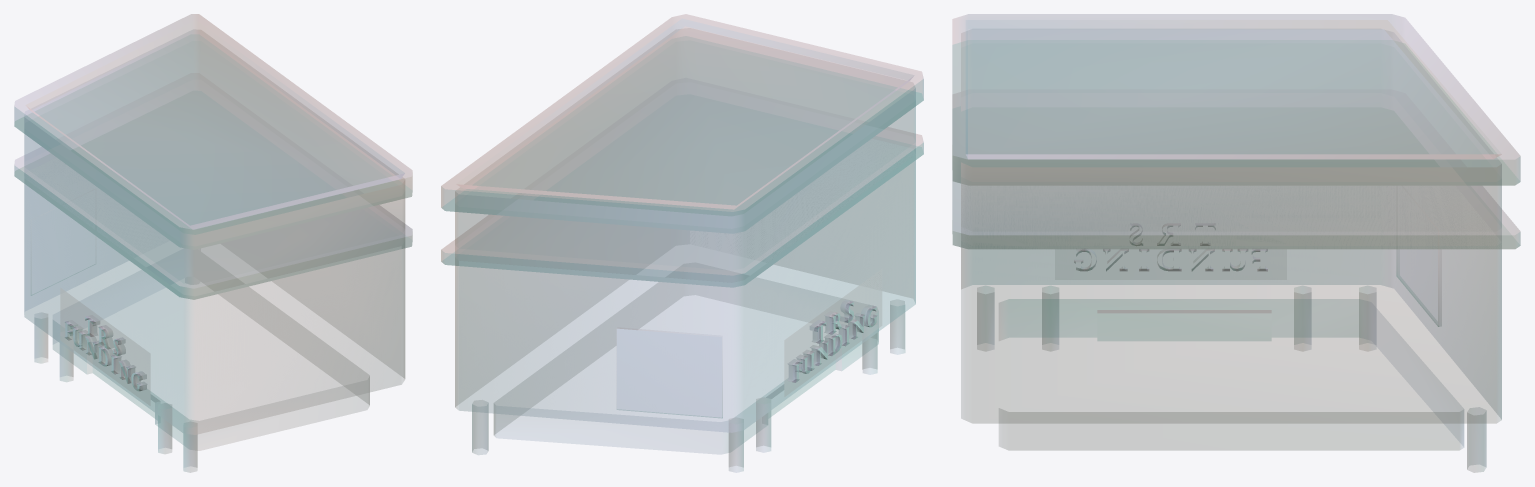
The model's file is CEN_8C62.preview.glb.
3 renders of one model, left to right at view 1: azimuth 30°, elevation 25°; view 2: azimuth 150°, elevation 25°; view 3: azimuth 270°, elevation 25°, orthographic. The views are drawn at different scales.
Parts seen in each view (by area): view 1: obj_370, obj_14d0, obj_2020, obj_d50, obj_ab0, obj_1230, obj_16e0, obj_a440, obj_1ea0, obj_9df0; view 2: obj_370, obj_14d0, obj_2020, obj_d50, obj_ab0, obj_1230, obj_16e0, obj_a0b0, obj_a5a0, obj_1ea0, obj_a440, obj_9df0; view 3: obj_370, obj_14d0, obj_2020, obj_d50, obj_ab0, obj_1230, obj_1ea0, obj_9df0.
Part boxes in pixels (box(x1,y1,x2,y2)): obj_370: box(14, 41, 412, 299); obj_14d0: box(24, 184, 405, 434); obj_2020: box(32, 29, 394, 225); obj_d50: box(24, 30, 405, 295); obj_ab0: box(14, 14, 412, 299); obj_1230: box(52, 270, 369, 450); obj_16e0: box(24, 184, 128, 311); obj_a440: box(60, 288, 150, 405); obj_1ea0: box(34, 313, 197, 472); obj_9df0: box(64, 315, 146, 391); obj_370: box(442, 40, 923, 286); obj_14d0: box(455, 160, 915, 432); obj_2020: box(468, 26, 906, 205); obj_d50: box(455, 28, 915, 282); obj_ab0: box(441, 14, 923, 287); obj_1230: box(493, 278, 878, 454); obj_16e0: box(774, 160, 915, 303); obj_a0b0: box(617, 328, 722, 418); obj_a5a0: box(617, 329, 721, 417); obj_1ea0: box(472, 300, 905, 472); obj_a440: box(784, 269, 881, 396); obj_9df0: box(788, 300, 877, 382); obj_370: box(952, 43, 1519, 248); obj_14d0: box(961, 242, 1501, 423); obj_2020: box(968, 29, 1488, 154); obj_d50: box(961, 29, 1501, 245); obj_ab0: box(952, 14, 1520, 248); obj_1230: box(999, 299, 1464, 450); obj_1ea0: box(977, 286, 1486, 472); obj_9df0: box(1074, 223, 1267, 270).
Bounding box in the file's own units: 57.44 × 59.23 × 94.69.
